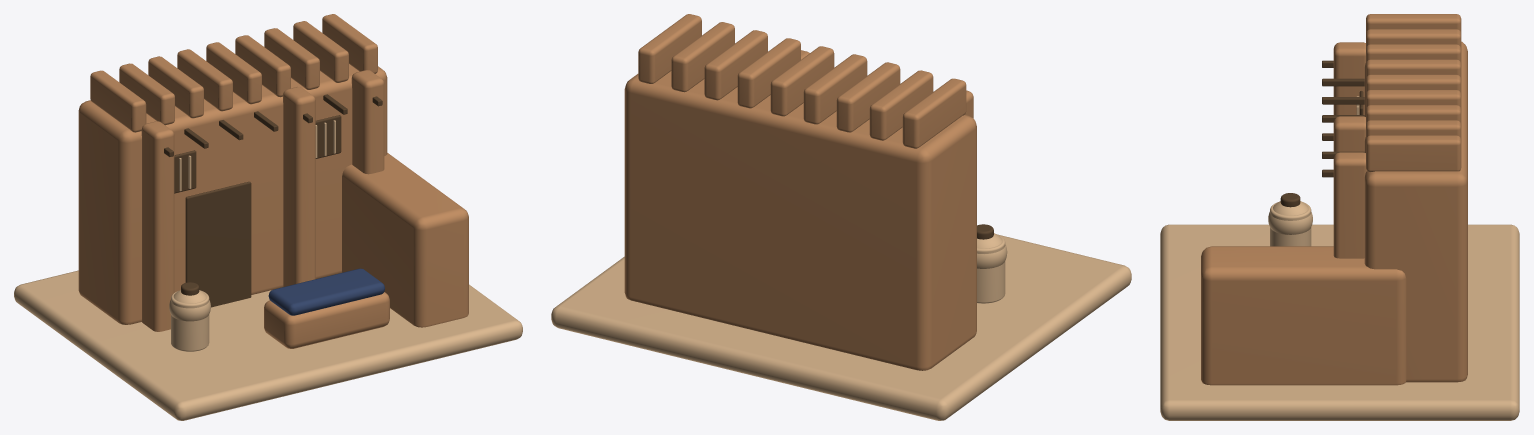
File: sahel-courtyard.glb
The picture shows the model from 3 angles, left to right: view 1: azimuth 30°, elevation 25°; view 2: azimuth 150°, elevation 25°; view 3: azimuth 270°, elevation 25°; orthographic projection. The views are drawn at different scales.
Parts seen in each view (by area): view 1: Main earthen volume, Courtyard base, Side volume, Door recess, Buttress, Buttress.001, Seating plinth, Buttress.002, Indigo seat, Parapet cap, Parapet cap.002, Parapet cap.003 (+10 smaller); view 2: Main earthen volume, Courtyard base, Parapet cap, Parapet cap.004, Parapet cap.001, Parapet cap.003, Parapet cap.002, Parapet cap.005, Parapet cap.006, Parapet cap.008, Parapet cap.007, Storage jar (+1 smaller); view 3: Courtyard base, Side volume, Main earthen volume, Parapet cap.008, Buttress.002, Buttress, Parapet cap, Parapet cap.001, Parapet cap.006, Parapet cap.007, Parapet cap.002, Parapet cap.003 (+7 smaller).
Boxes of the visible parts, x1,y1,x2,y2 form: Main earthen volume: [78, 64, 387, 324]; Courtyard base: [14, 270, 522, 420]; Side volume: [342, 153, 468, 327]; Door recess: [185, 181, 251, 307]; Buttress: [141, 121, 174, 331]; Buttress.001: [283, 87, 315, 286]; Seating plinth: [264, 292, 389, 348]; Buttress.002: [351, 70, 384, 174]; Indigo seat: [268, 268, 384, 315]; Parapet cap: [90, 70, 146, 132]; Parapet cap.002: [148, 56, 203, 118]; Parapet cap.003: [177, 49, 232, 111]; Main earthen volume: [624, 71, 976, 370]; Courtyard base: [551, 234, 1131, 420]; Parapet cap: [902, 78, 966, 148]; Parapet cap.004: [770, 46, 834, 116]; Parapet cap.001: [869, 70, 933, 140]; Parapet cap.003: [803, 54, 867, 124]; Parapet cap.002: [836, 62, 900, 132]; Parapet cap.005: [737, 38, 800, 108]; Parapet cap.006: [704, 30, 767, 100]; Parapet cap.008: [638, 14, 701, 83]; Parapet cap.007: [671, 22, 734, 92]; Storage jar: [977, 234, 1005, 303]; Courtyard base: [1160, 224, 1519, 420]; Side volume: [1201, 246, 1406, 385]; Main earthen volume: [1364, 41, 1467, 382]; Parapet cap.008: [1366, 135, 1461, 172]; Buttress.002: [1333, 152, 1366, 258]; Buttress: [1333, 42, 1365, 114]; Parapet cap: [1366, 14, 1461, 33]; Parapet cap.001: [1366, 29, 1461, 48]; Parapet cap.006: [1366, 105, 1461, 124]; Parapet cap.007: [1366, 120, 1461, 139]; Parapet cap.002: [1366, 44, 1461, 63]; Parapet cap.003: [1366, 59, 1461, 78].
Size of the model in its own units: 4.8 by 3.14 by 4.
